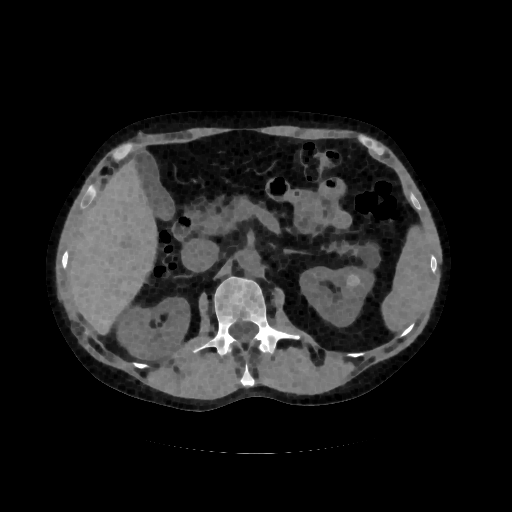Lesion: (342, 271, 364, 291)
